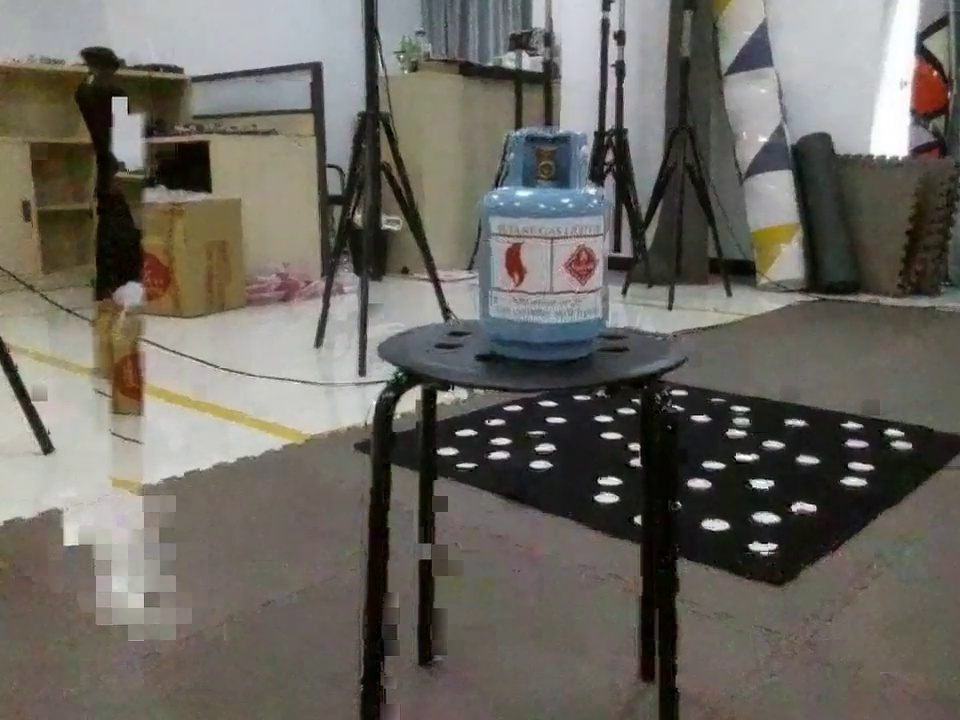gas tank: (465, 126, 628, 368)
